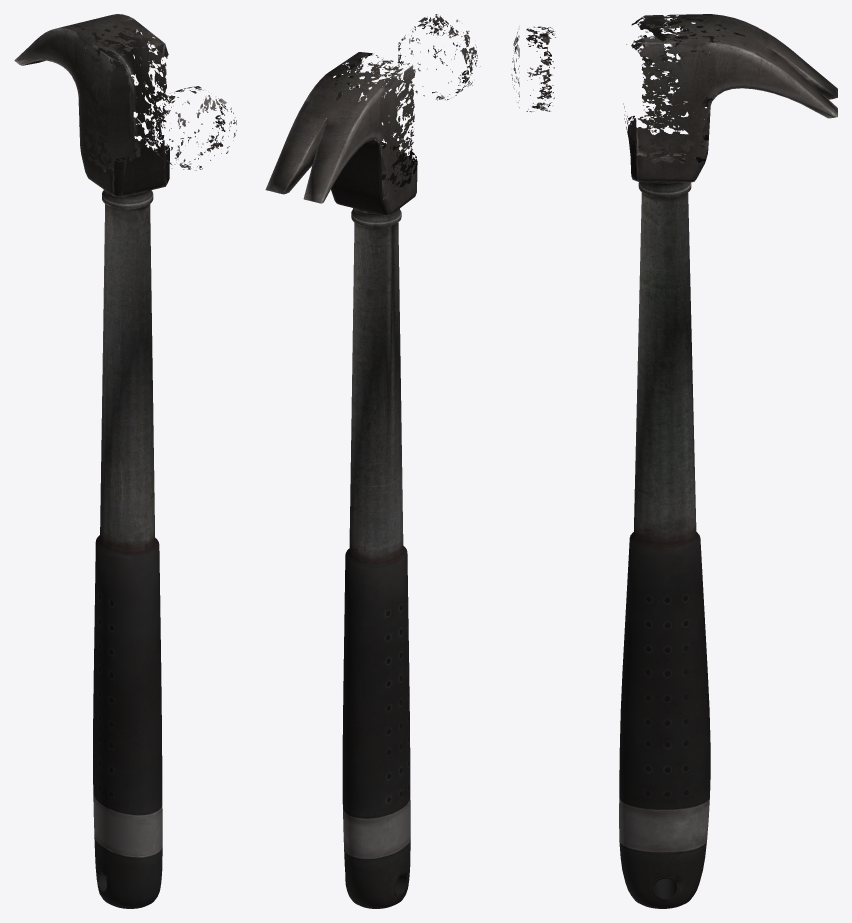
Rendered from hammer.obj.
The picture shows the model from 3 angles, left to right: view 1: azimuth 30°, elevation 25°; view 2: azimuth 150°, elevation 25°; view 3: azimuth 270°, elevation 25°; orthographic projection. The views are drawn at different scales.
Bounding box in the file's own units: 0.0727 × 0.7945 × 0.2691.
1 material, 1 textured.
